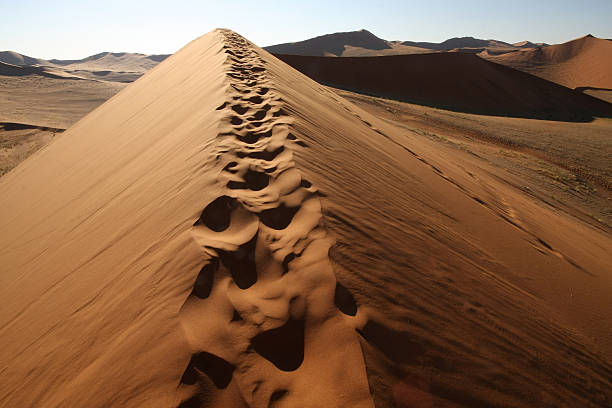human_footprint: (179, 31, 372, 407)
